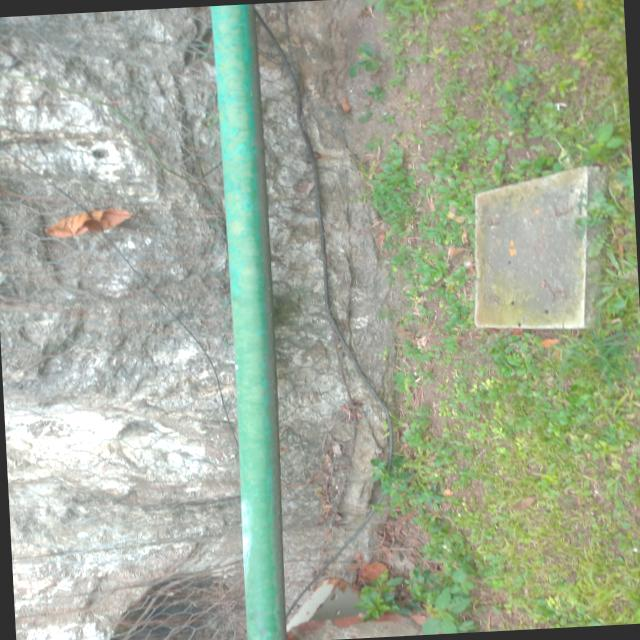gas: (206, 3, 287, 640)
